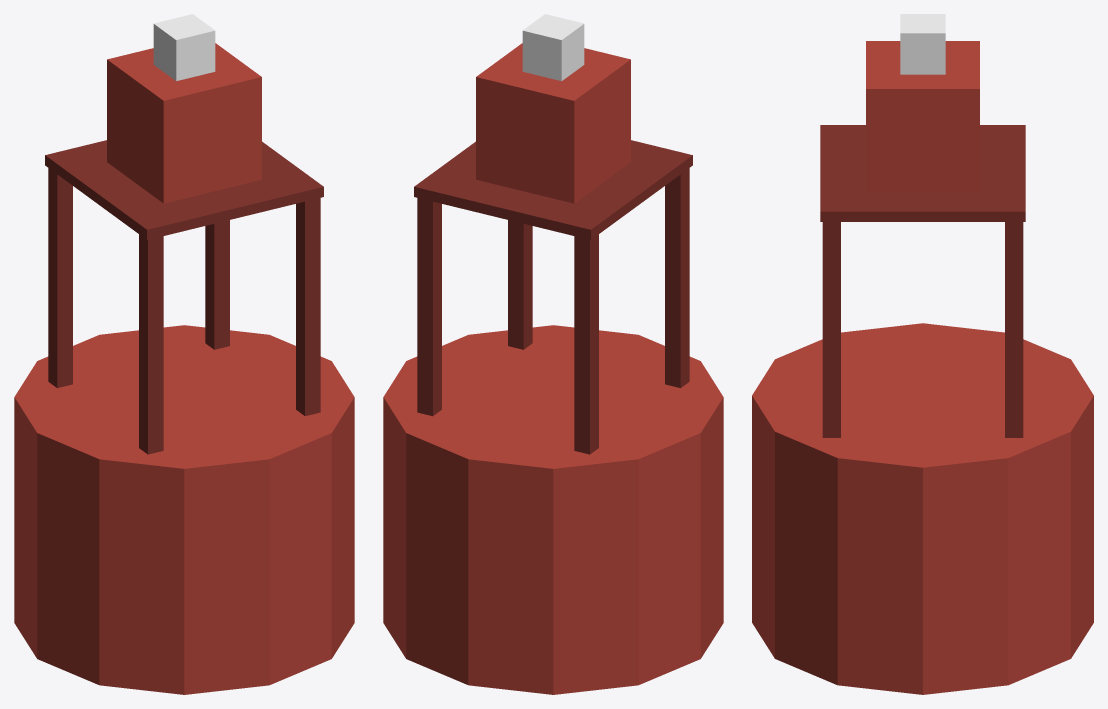
File: buoy.glb
The picture shows the model from 3 angles, left to right: view 1: azimuth 30°, elevation 25°; view 2: azimuth 150°, elevation 25°; view 3: azimuth 270°, elevation 25°; orthographic projection.
Parts seen in each view (by area): view 1: LOD0; view 2: LOD0; view 3: LOD0.
Boxes of the visible parts, x1,y1,x2,y2 form: LOD0: [14, 14, 354, 694]; LOD0: [383, 14, 723, 694]; LOD0: [752, 14, 1093, 694].
Size of what is drawn, in the model's own units: 3 by 5.8 by 3.
